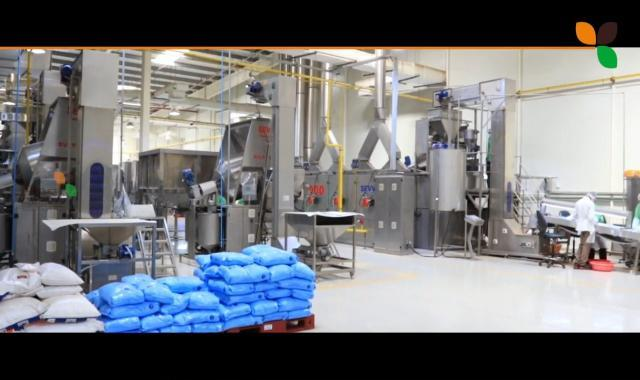Hairnet: (587, 191, 596, 197)
No_Apron: (578, 198, 592, 232)
